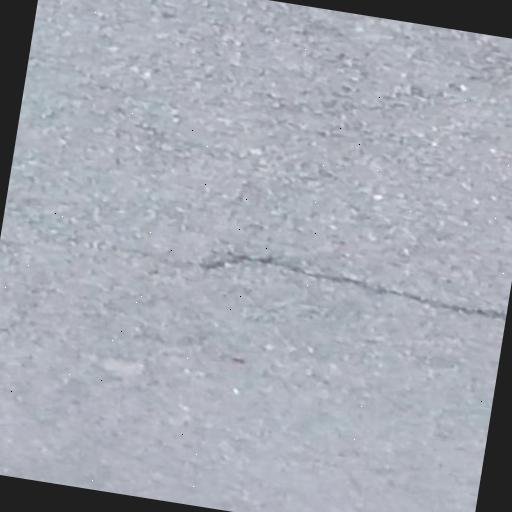spalling: (193, 247, 503, 324)
